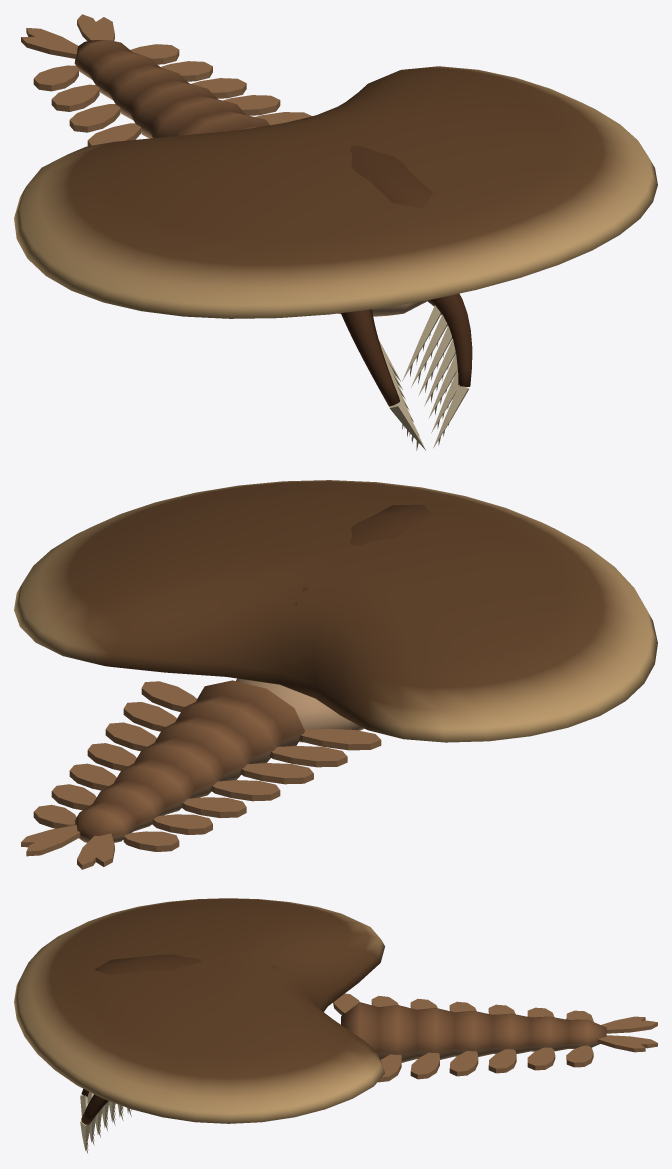
File: Cambroraster.fbx
3 renders of one model, top to bottom at view 1: azimuth 30°, elevation 25°; view 2: azimuth 150°, elevation 25°; view 3: azimuth 270°, elevation 25°, orthographic. The views are drawn at different scales.
Parts seen in each view (by area): view 1: Cambroraster; view 2: Cambroraster; view 3: Cambroraster.
Boxes of the visible parts, bbox=[...] form: Cambroraster: bbox=[14, 14, 657, 450]; Cambroraster: bbox=[14, 480, 657, 869]; Cambroraster: bbox=[14, 898, 657, 1153].
Bounding box in the file's own units: 1 × 0.411 × 1.26.
